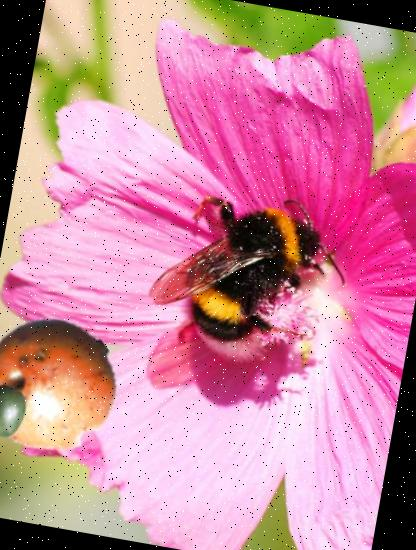Granadilla: (0, 306, 128, 464)
Mango: (0, 379, 35, 442)
